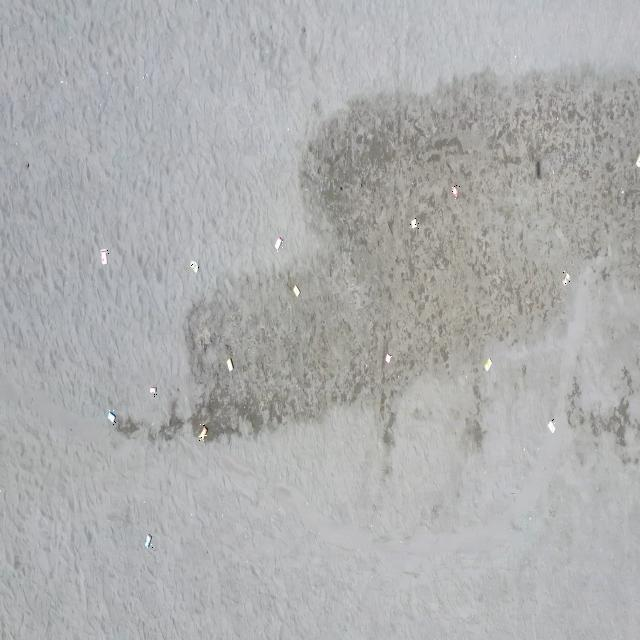retort-pouch: (200, 424, 210, 443), (100, 248, 109, 266), (546, 418, 555, 436), (274, 235, 283, 252), (450, 184, 460, 199), (226, 355, 234, 373), (485, 354, 493, 372), (190, 258, 199, 274), (146, 532, 154, 549), (107, 410, 116, 425), (562, 271, 570, 287), (292, 284, 300, 299), (149, 384, 158, 397), (410, 216, 419, 228), (385, 350, 392, 364)
